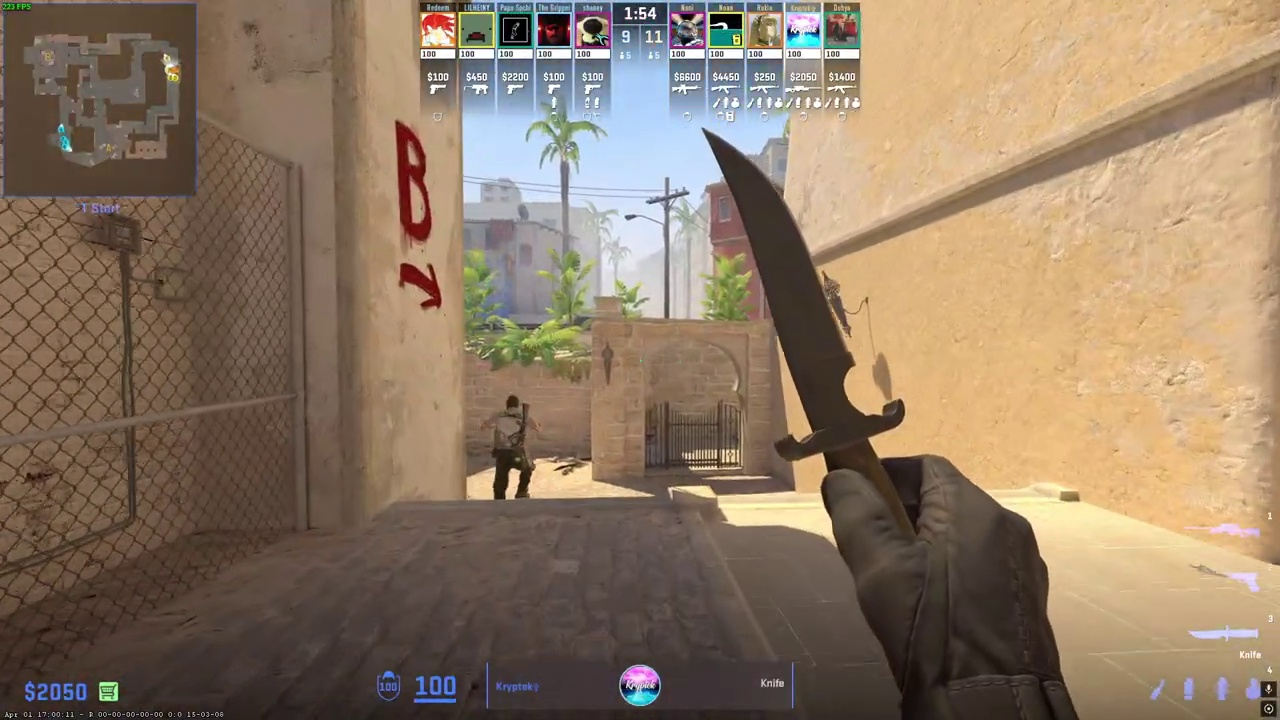Terrorist: (488, 395, 537, 502)
